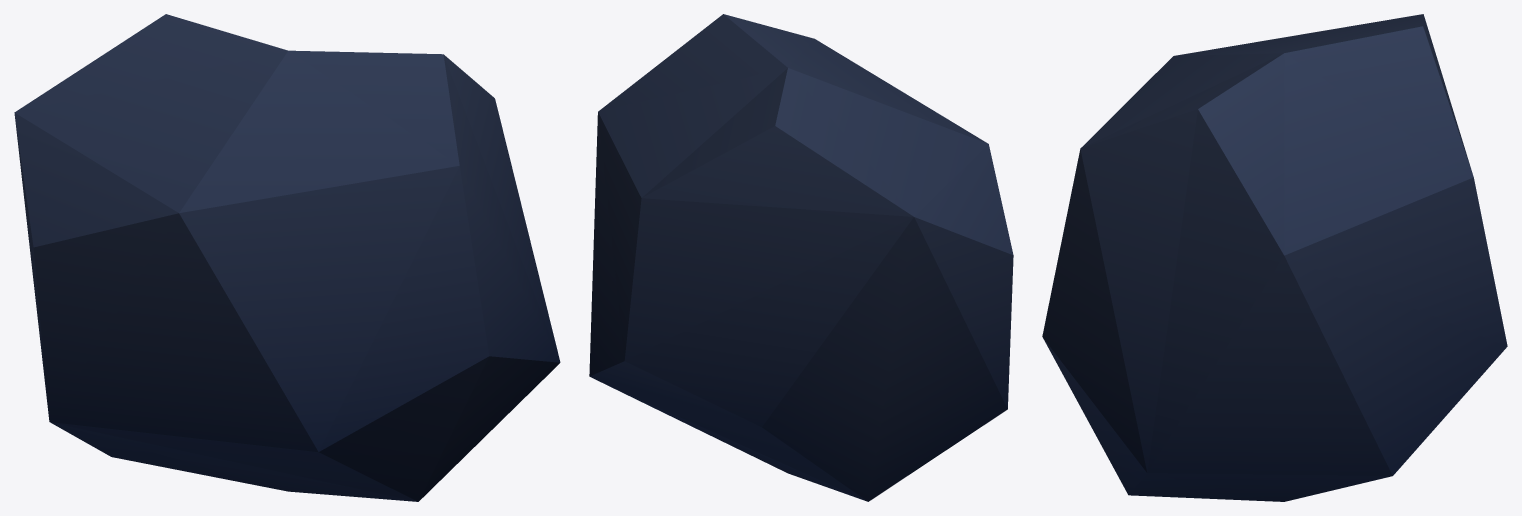
The model's file is Rock_3.glb.
The picture shows the model from 3 angles, left to right: view 1: azimuth 30°, elevation 25°; view 2: azimuth 150°, elevation 25°; view 3: azimuth 270°, elevation 25°; orthographic projection. The views are drawn at different scales.
Visible parts, largest first — view 1: lamplighter__Rock_3__stone; view 2: lamplighter__Rock_3__stone; view 3: lamplighter__Rock_3__stone.
Boxes of the visible parts, left/top/right/bottom form: lamplighter__Rock_3__stone: left=14, top=14, right=560, bottom=501; lamplighter__Rock_3__stone: left=589, top=14, right=1013, bottom=501; lamplighter__Rock_3__stone: left=1042, top=14, right=1507, bottom=501.
Bounding box in the file's own units: 0.51 × 0.4706 × 0.4422.
